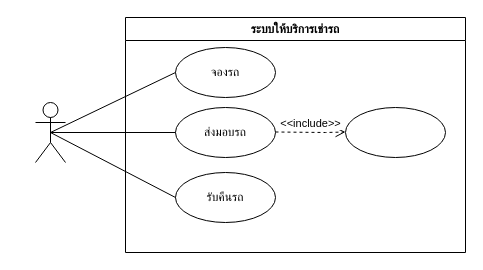
Some shapes in this 483 by 270 pixel diagram are drawn without their labels. The centre of each missing label's shape, as x and y in pixels:
ประกันภัยรถเช่า: point 395,132
พนักงานรับจอง: point 50,132
